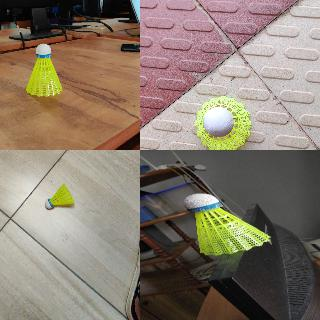shuttlecock: (184, 194, 270, 255), (194, 94, 251, 149), (26, 42, 62, 96), (44, 182, 74, 210)
